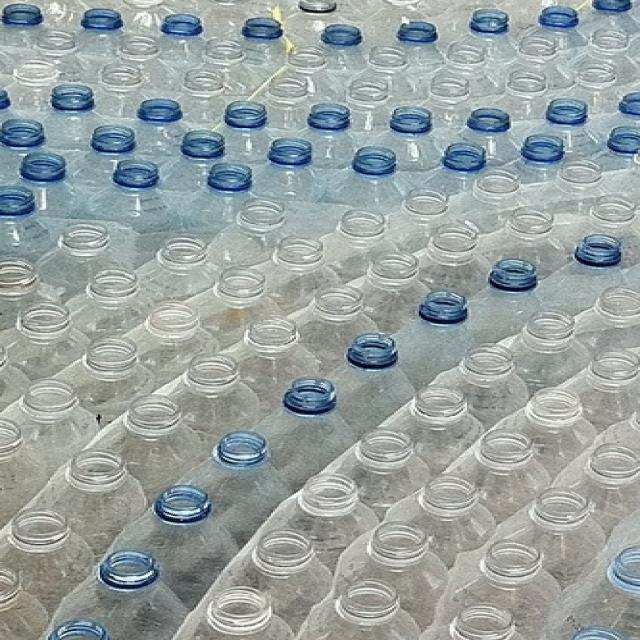Plastics: (7, 6, 640, 633)
